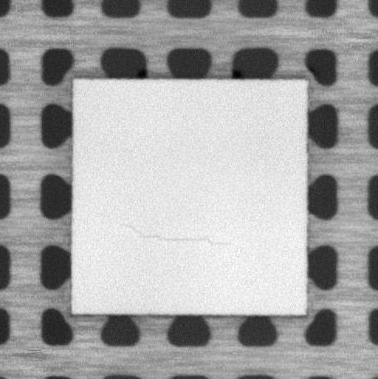DIE_CRACK: (122, 222, 233, 248)
